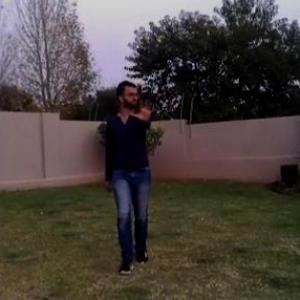follow_hand: (129, 90, 164, 124)
